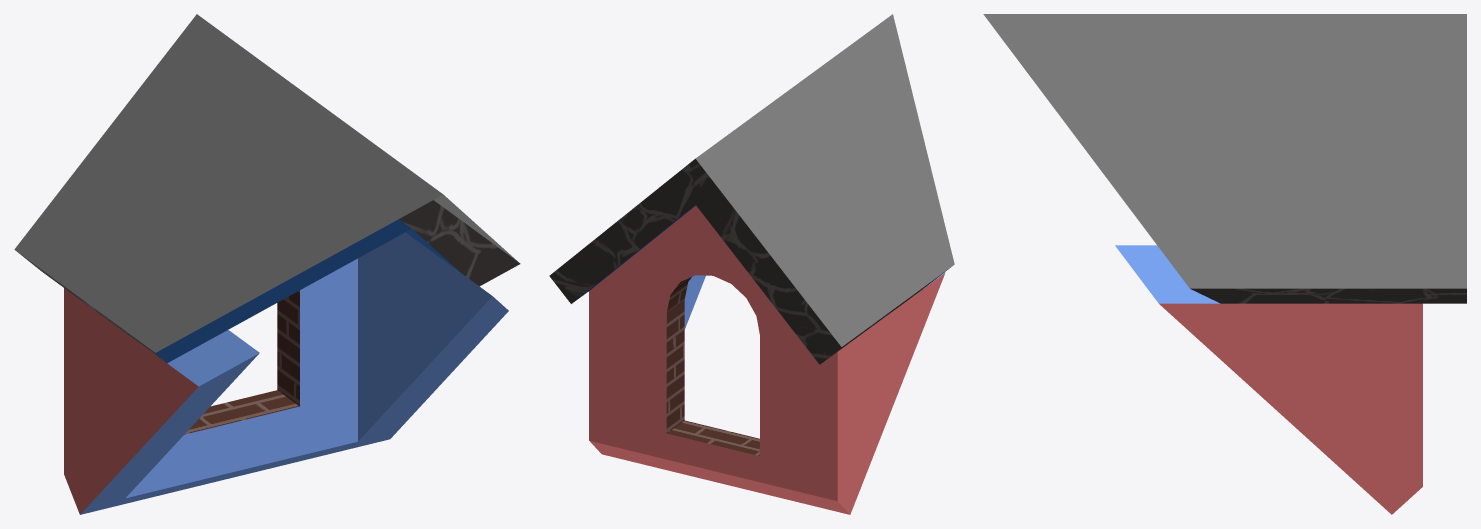
Rendered from window_roof_2.FBX.
The picture shows the model from 3 angles, left to right: view 1: azimuth 30°, elevation 25°; view 2: azimuth 150°, elevation 25°; view 3: azimuth 270°, elevation 25°; orthographic projection. The views are drawn at different scales.
Visible parts, largest first — view 1: window_roof_2; view 2: window_roof_2; view 3: window_roof_2.
Boxes of the visible parts, <box> form: window_roof_2: <box>14,14,520,514</box>; window_roof_2: <box>549,14,954,514</box>; window_roof_2: <box>983,14,1466,514</box>.
Size of the model in its own units: 471 by 536 by 551.
Materials: 6 (2 with a texture image).
